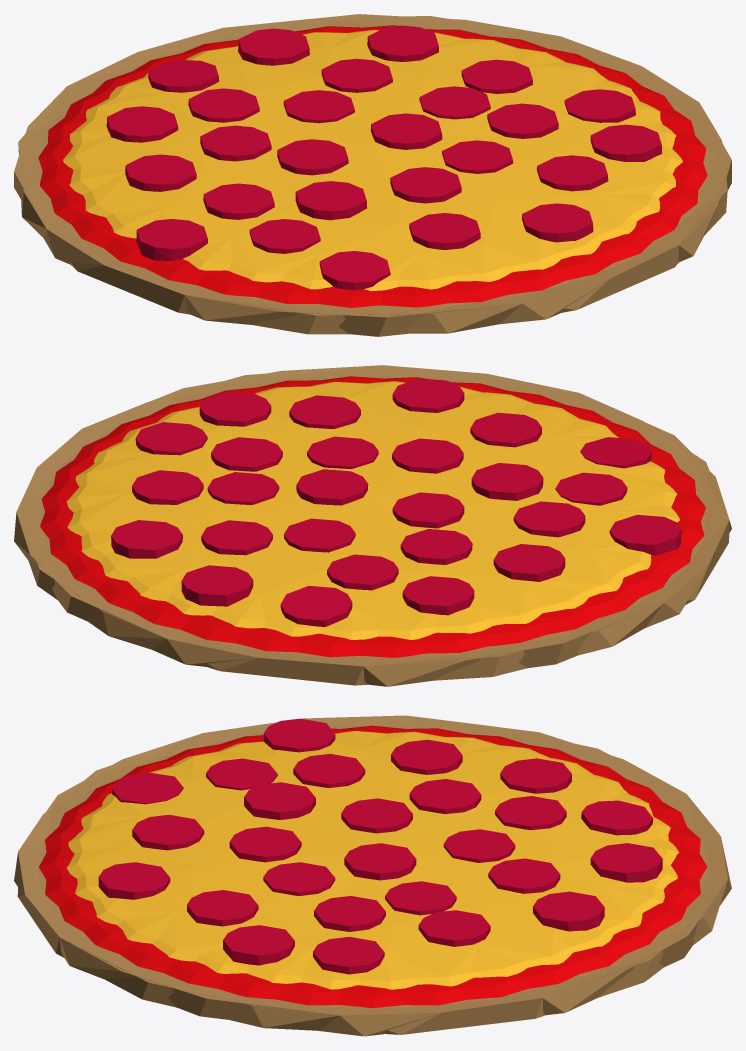
File: modelo4.glb
3 renders of one model, top to bottom at view 1: azimuth 30°, elevation 25°; view 2: azimuth 150°, elevation 25°; view 3: azimuth 270°, elevation 25°, orthographic.
Visible parts, largest first — view 1: pizza_pepperoni_cocinada; view 2: pizza_pepperoni_cocinada; view 3: pizza_pepperoni_cocinada.
Boxes of the visible parts, bbox=[...] form: pizza_pepperoni_cocinada: bbox=[14, 14, 731, 336]; pizza_pepperoni_cocinada: bbox=[14, 365, 731, 686]; pizza_pepperoni_cocinada: bbox=[14, 715, 731, 1036].
Size of the model in its own units: 2.02 by 0.1384 by 2.02.
